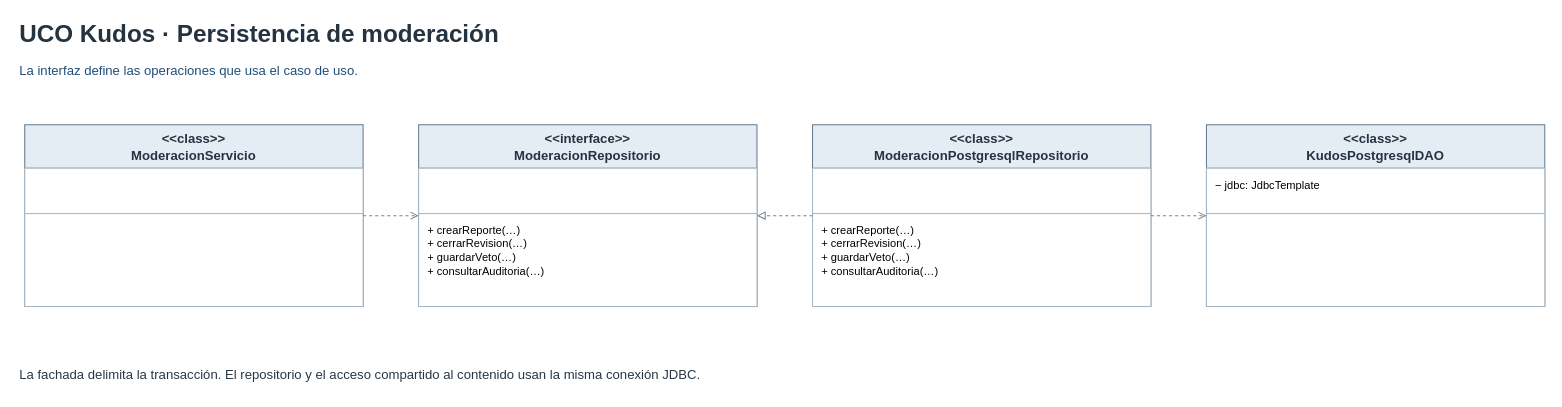
The diagram is 1562 pixels wide and 407 high, and some of its shapes have lost their labels. The centre of each missing label's shape, as x and y in pixels:
+ reportar(…) + revisar(…) + vetar(…) + auditoria(…): the point at 193,260
+ transaccion(…) + todos(…) + ejecutar(…) + registrar(…): the point at 1375,260
− dao: KudosPostgresqlDAO: the point at 981,190
− repositorio: ModeracionRepositorio: the point at 193,190
